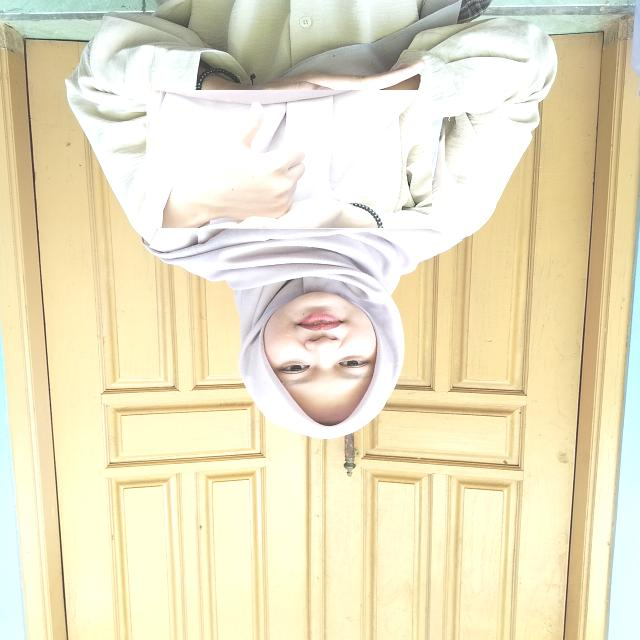cantik: (146, 90, 432, 229)
